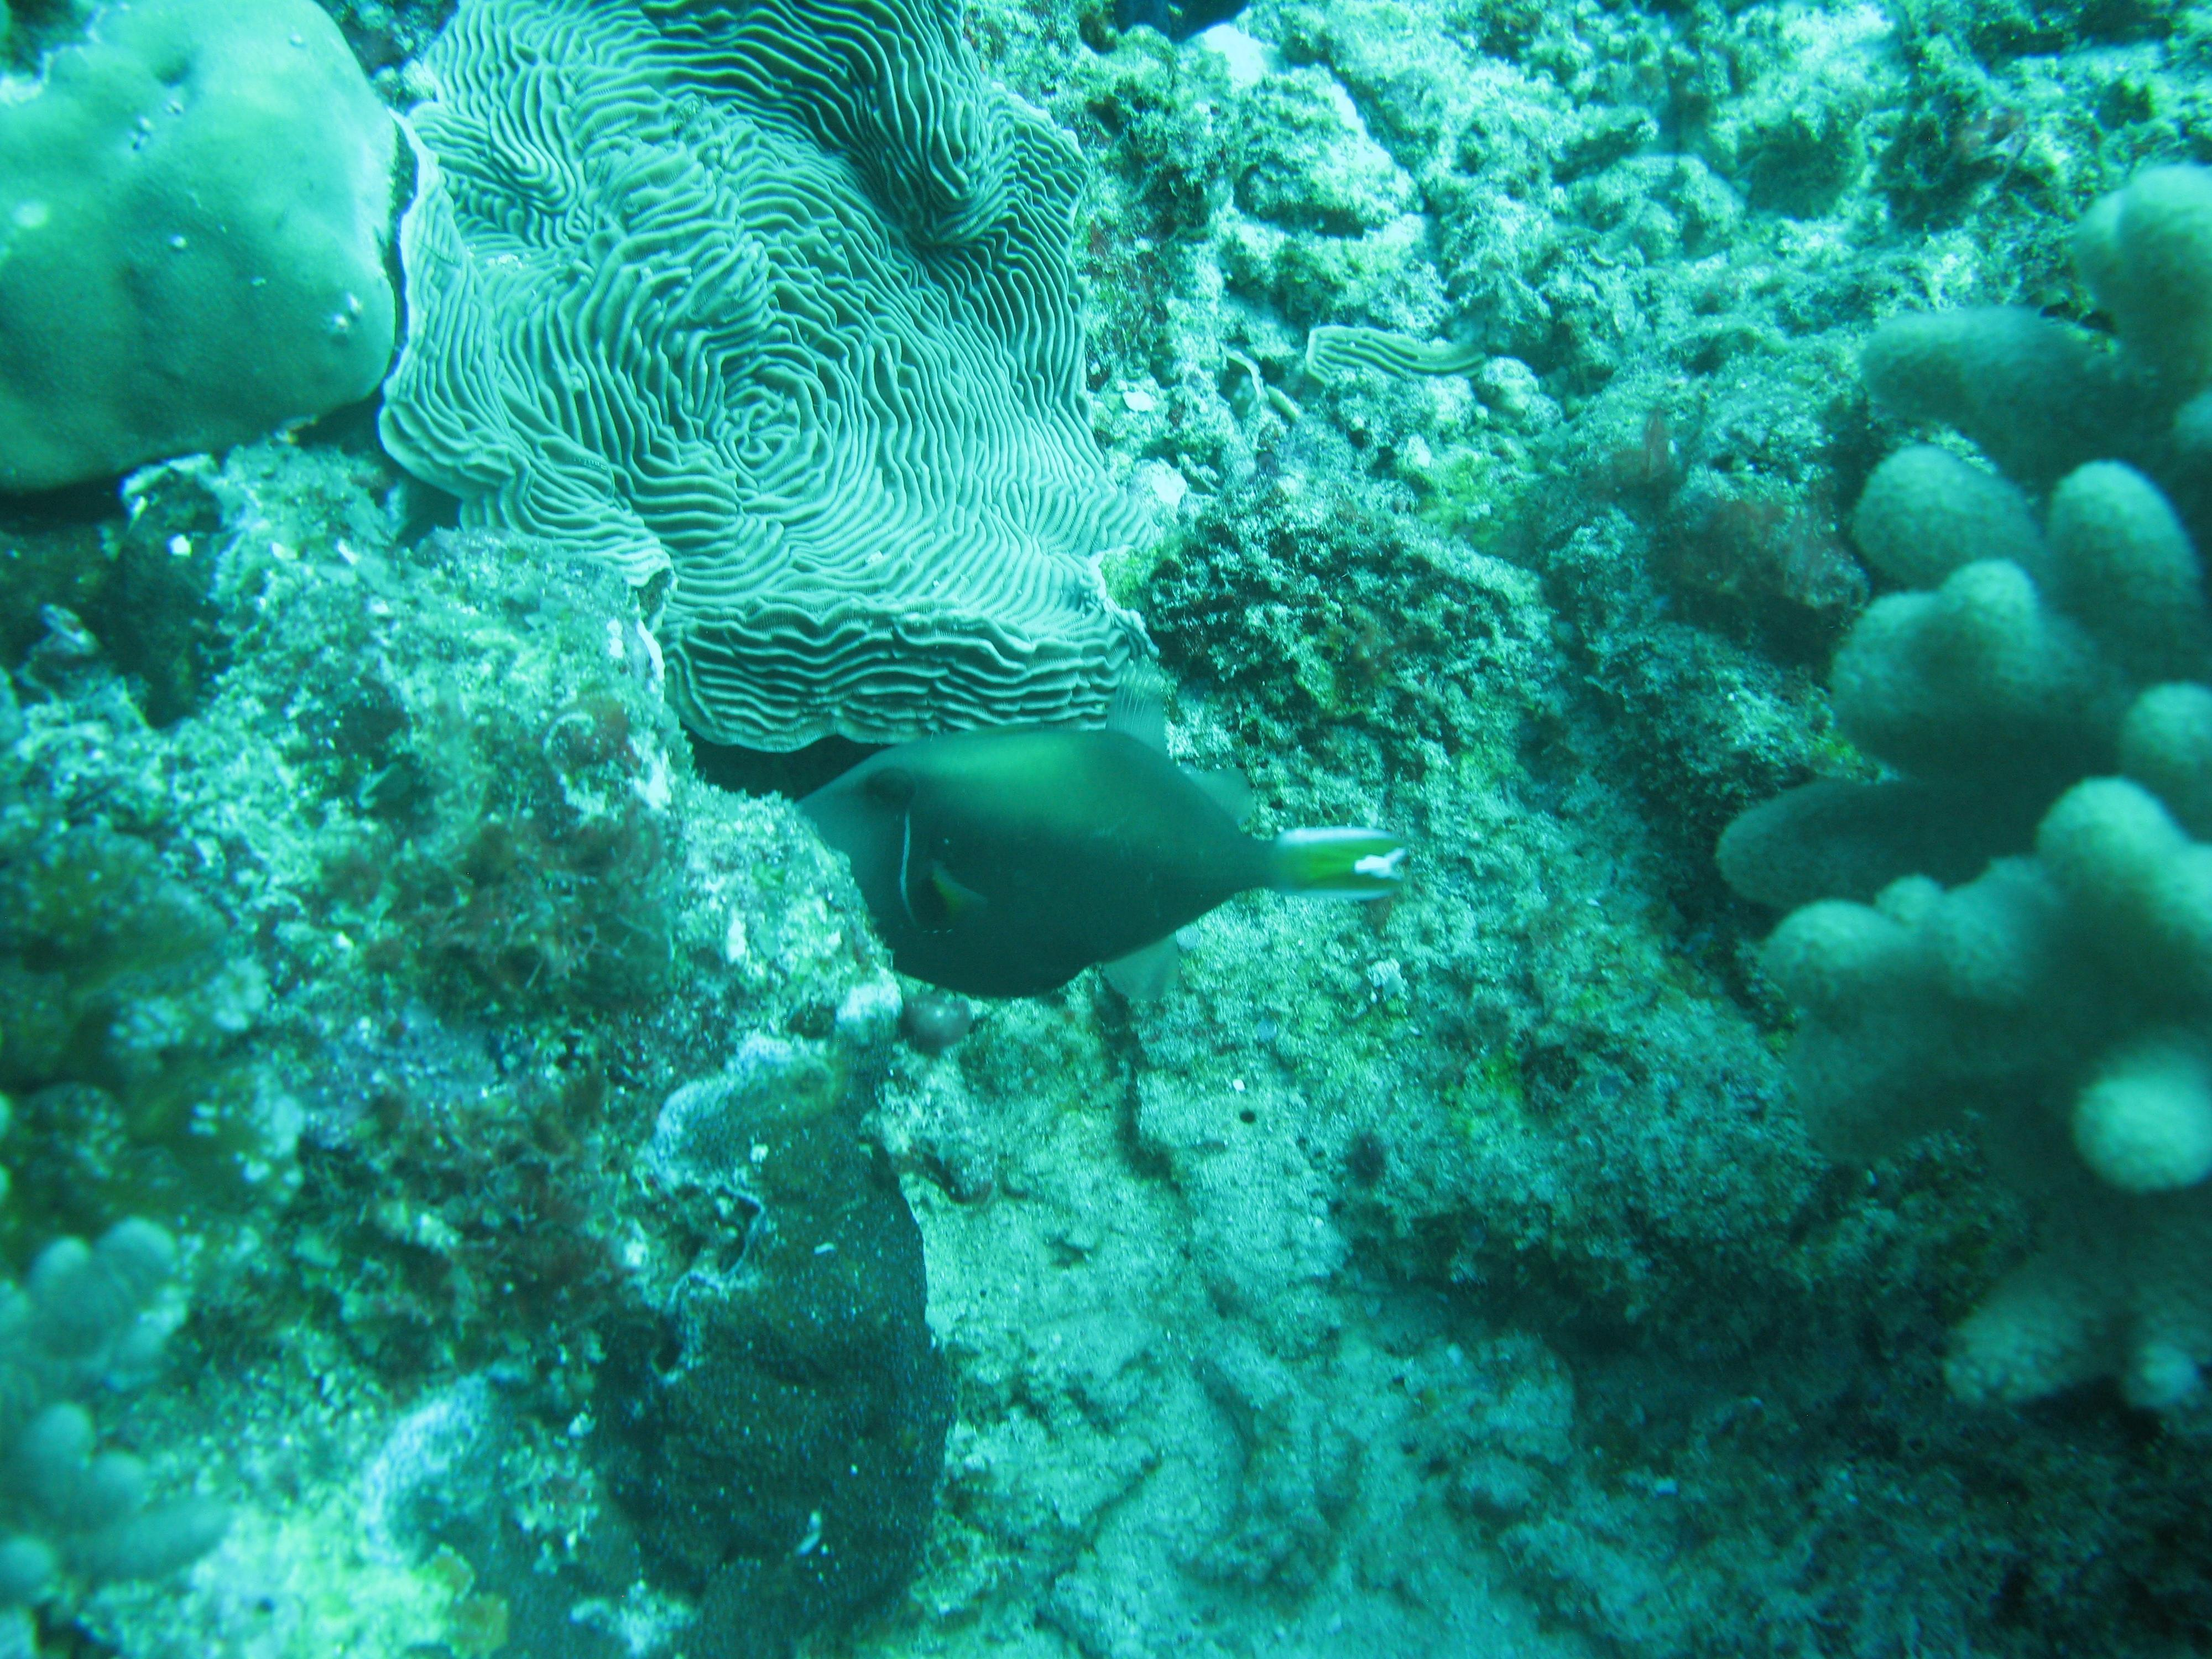Fish: (700, 608, 1576, 1080)
